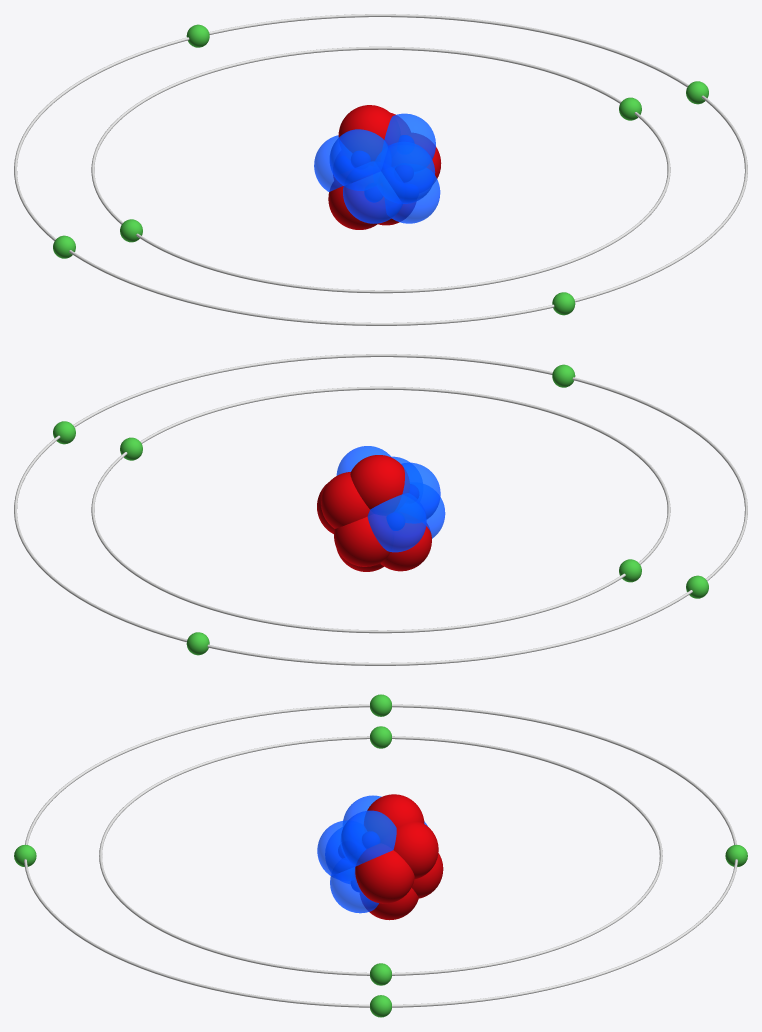
File: Carbon.glb
3 views of the same model, one above another, from view 1: azimuth 30°, elevation 25°; view 2: azimuth 150°, elevation 25°; view 3: azimuth 270°, elevation 25° (orthographic). The views are drawn at different scales.
Parts seen in each view (by area): view 1: element_006_carbon_nucleus, carbon orbital 1.004, carbon orbital 1.001; view 2: element_006_carbon_nucleus, carbon orbital 1.004, carbon orbital 1.001; view 3: element_006_carbon_nucleus, carbon orbital 1.004, carbon orbital 1.001.
Boxes of the visible parts, bbox=[...] form: element_006_carbon_nucleus: bbox=[314, 105, 441, 229]; carbon orbital 1.004: bbox=[14, 14, 747, 325]; carbon orbital 1.001: bbox=[91, 46, 670, 293]; element_006_carbon_nucleus: bbox=[317, 446, 445, 571]; carbon orbital 1.004: bbox=[14, 354, 747, 665]; carbon orbital 1.001: bbox=[91, 386, 670, 633]; element_006_carbon_nucleus: bbox=[317, 794, 443, 920]; carbon orbital 1.004: bbox=[14, 694, 747, 1017]; carbon orbital 1.001: bbox=[99, 726, 662, 985].
Bounding box in the file's own units: 0.9743 × 0.1661 × 0.9743.
